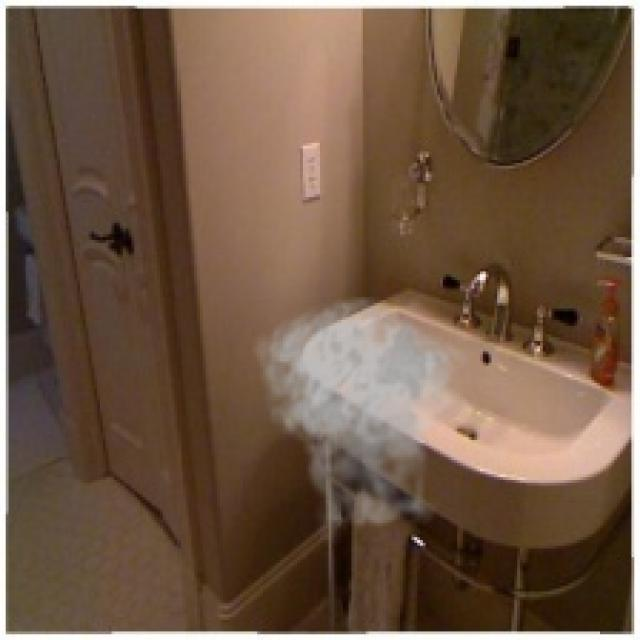smoke: (252, 294, 474, 546)
